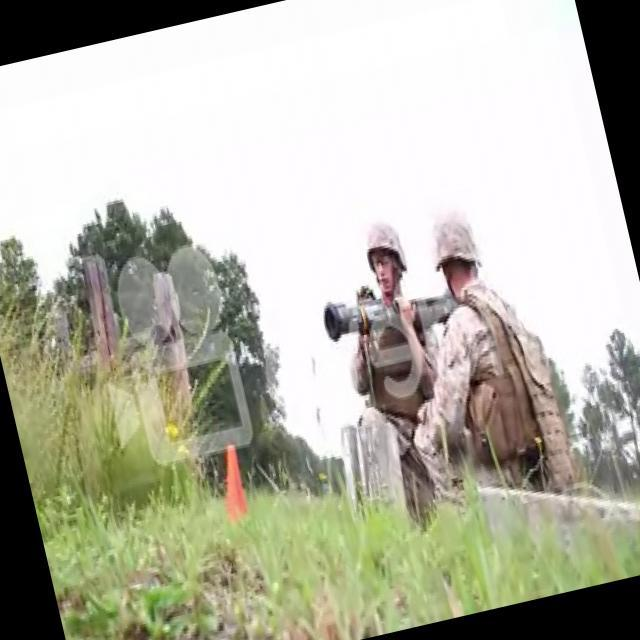rocket: (320, 280, 446, 350)
